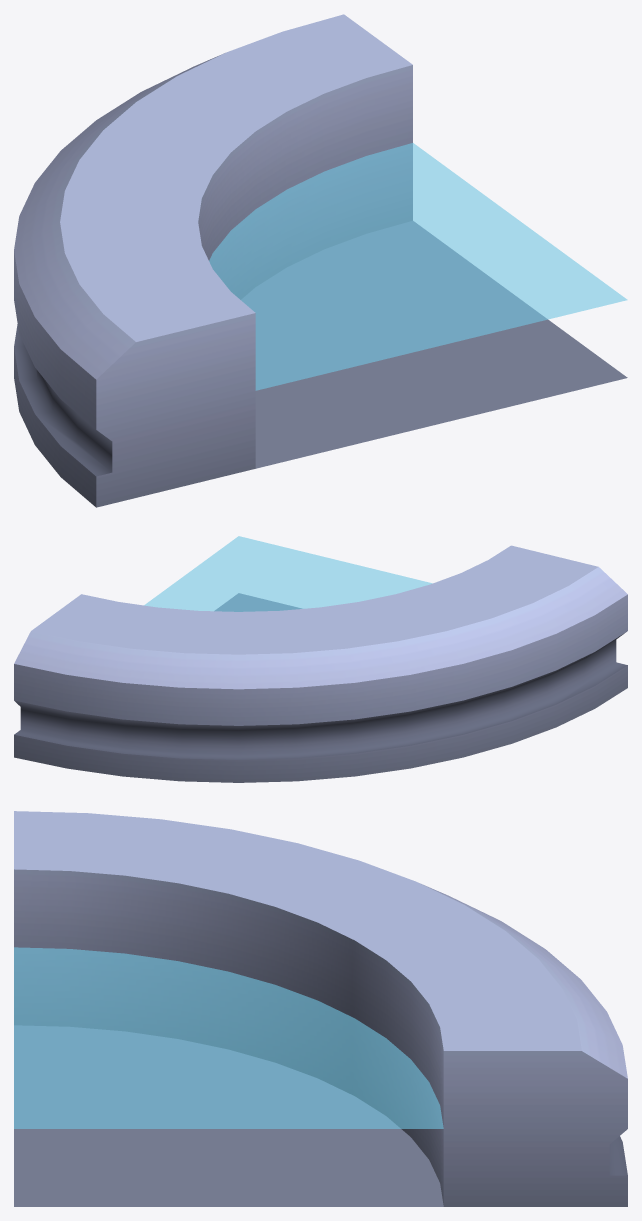
File: fountain-curved.glb
3 renders of one model, top to bottom at view 1: azimuth 30°, elevation 25°; view 2: azimuth 150°, elevation 25°; view 3: azimuth 270°, elevation 25°, orthographic. The views are drawn at different scales.
Visible parts, largest first — view 1: fountain-curved, (%ignore); view 2: fountain-curved, (%ignore); view 3: fountain-curved, (%ignore).
Part boxes in pixels (x1=…): fountain-curved: x1=14, y1=14, x2=627, y2=507; (%ignore): x1=209, y1=143, x2=627, y2=390; fountain-curved: x1=14, y1=545, x2=627, y2=782; (%ignore): x1=144, y1=536, x2=432, y2=611; fountain-curved: x1=14, y1=811, x2=627, y2=1206; (%ignore): x1=14, y1=947, x2=443, y2=1128.
Size of the model in its own units: 1 by 0.2799 by 1.
Materials: 2 (1 with a texture image).
